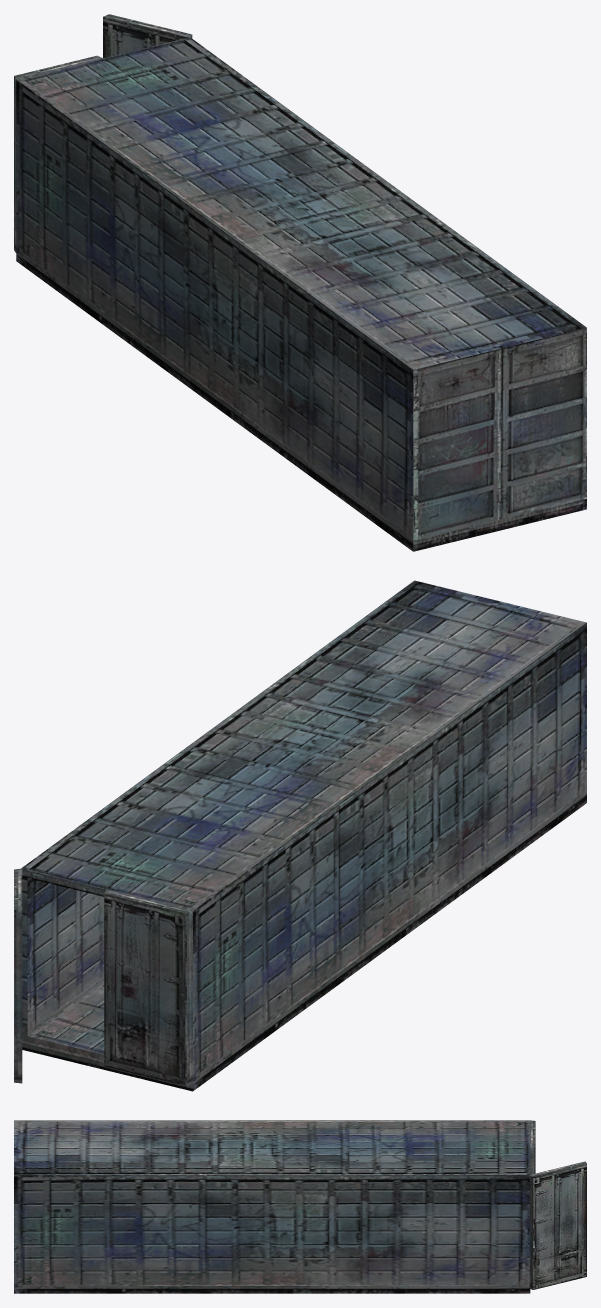
The model's file is cargo02.glb.
3 renders of one model, top to bottom at view 1: azimuth 30°, elevation 25°; view 2: azimuth 150°, elevation 25°; view 3: azimuth 270°, elevation 25°, orthographic. The views are drawn at different scales.
Parts seen in each view (by area): view 1: _cargo02; view 2: _cargo02; view 3: _cargo02.
Boxes of the visible parts, x1,y1,x2,y2 form: _cargo02: (14,14,586,551); _cargo02: (14,580,586,1091); _cargo02: (14,1120,586,1293).
Bounding box in the file's own units: 3.08 × 3 × 13.18.
Materials: 1 (1 with a texture image).
